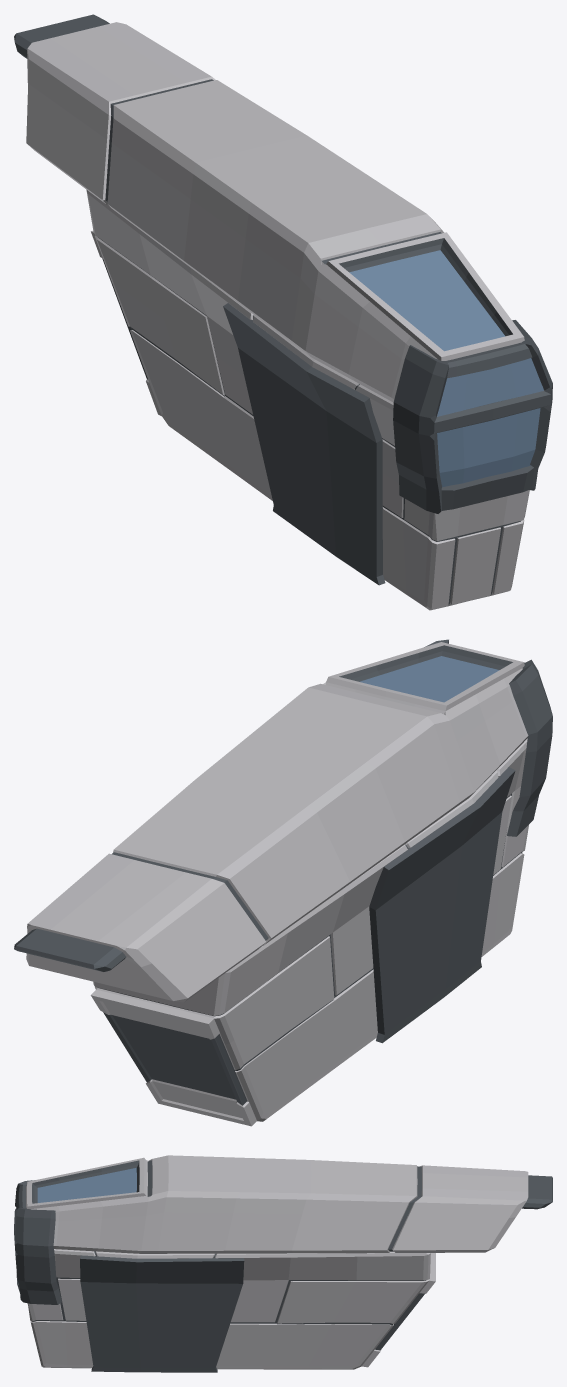
Rendered from Fighter_05_Body_Neutral.fbx.
3 renders of one model, top to bottom at view 1: azimuth 30°, elevation 25°; view 2: azimuth 150°, elevation 25°; view 3: azimuth 270°, elevation 25°, orthographic. The views are drawn at different scales.
Parts seen in each view (by area): view 1: Fighter_05_Body_Neutral; view 2: Fighter_05_Body_Neutral; view 3: Fighter_05_Body_Neutral.
Part boxes in pixels (<box>): Fighter_05_Body_Neutral: <box>14,14,552,610</box>; Fighter_05_Body_Neutral: <box>14,639,552,1126</box>; Fighter_05_Body_Neutral: <box>14,1155,552,1372</box>.
Bounding box in the file's own units: 398 × 652 × 1740.
2 materials, 2 textured.
